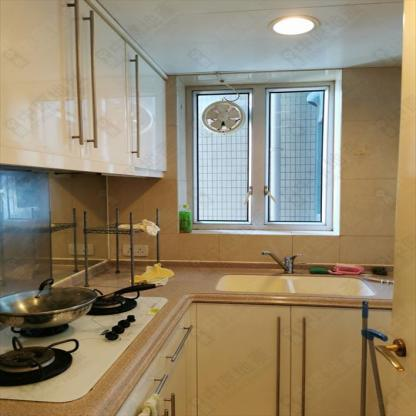Cupboard: (112, 300, 394, 415), (1, 0, 169, 177)
Exhaust Fan: (203, 100, 245, 132)
Faucet: (251, 247, 308, 273)
Sink: (213, 274, 372, 294)
Stove: (0, 293, 171, 402)
